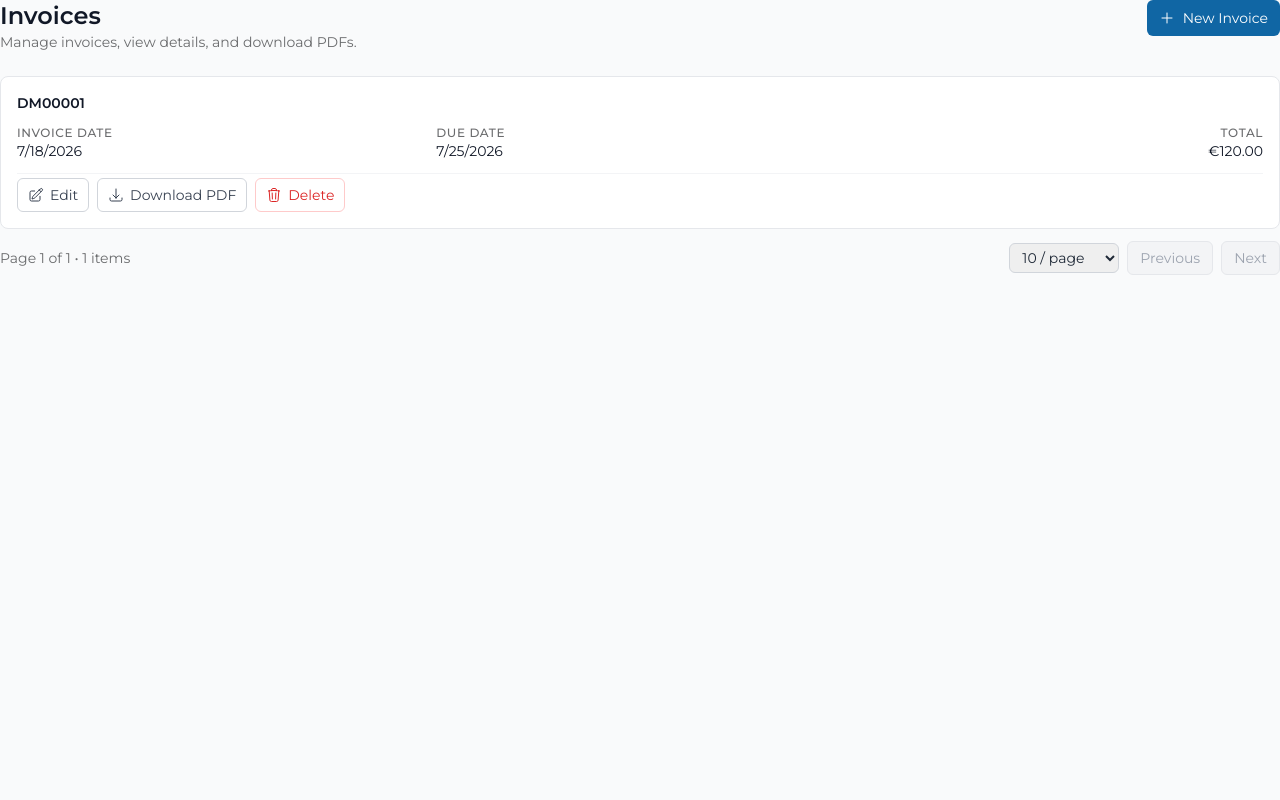
Test: InvoicesList at narrow widths (cards) › opens the confirm dialog on Delete tap and does not navigate
Step 1. Click the button titled "Delete" → (300,195), box [255, 178, 345, 212]
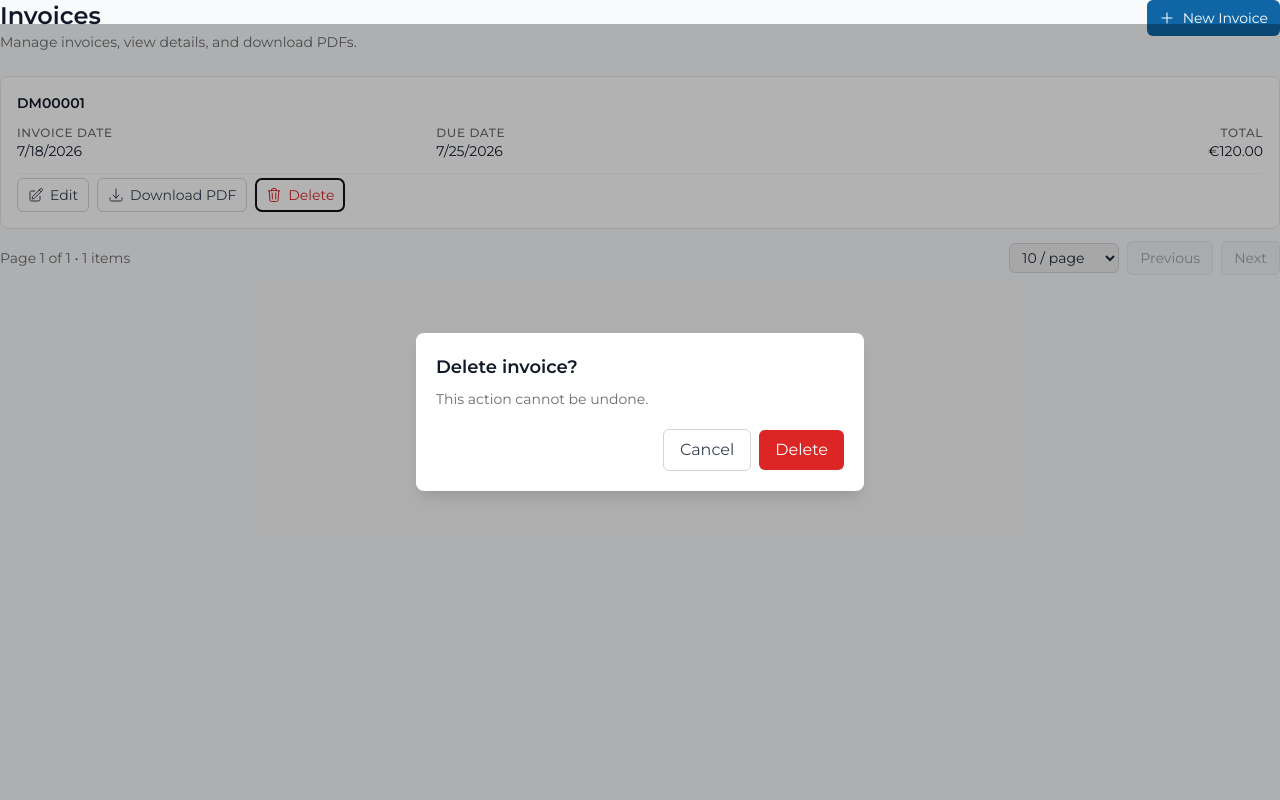
Expected: the button "Delete" is shown, [759, 430, 844, 470]
